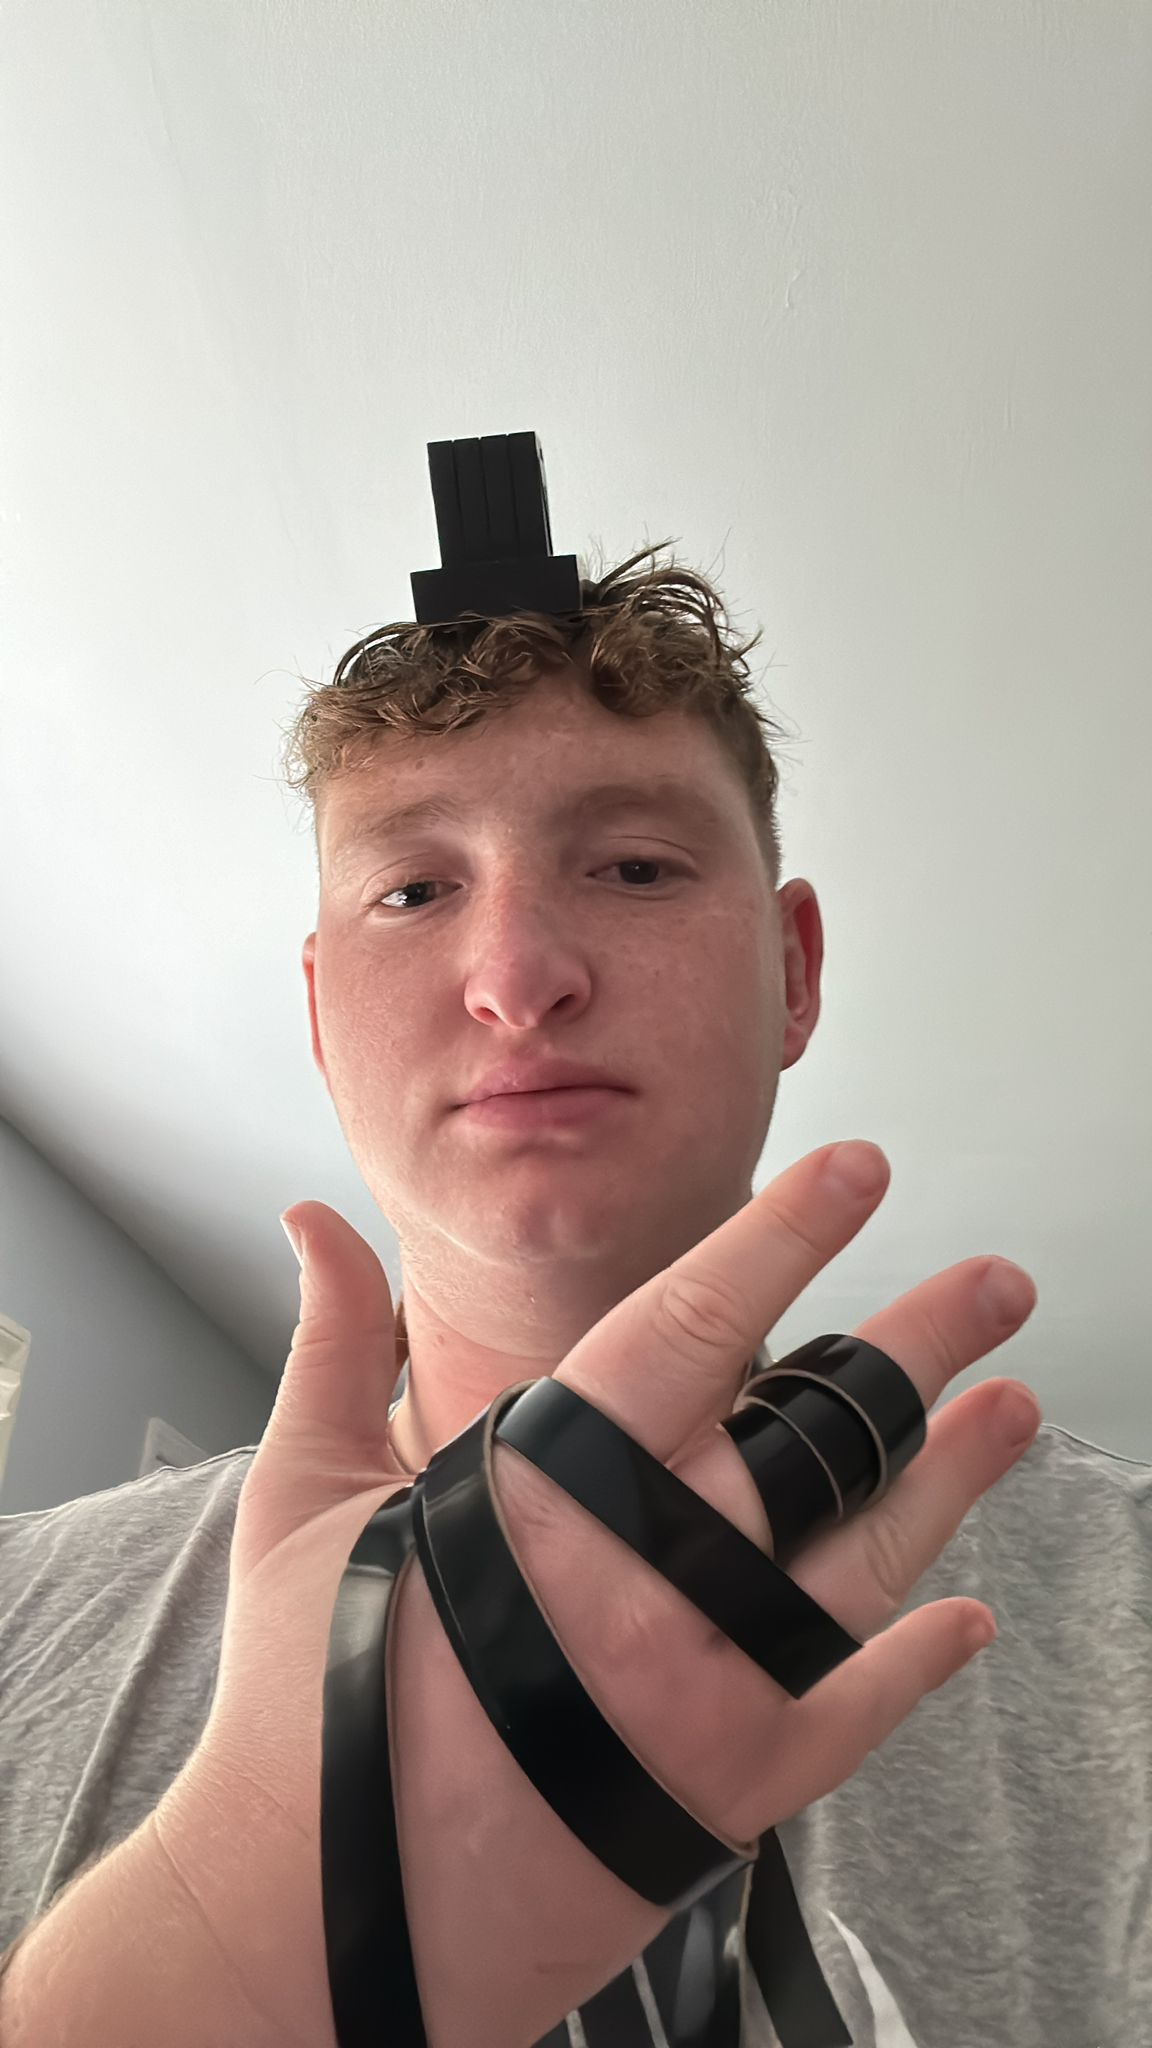tefillin: (405, 435, 599, 626)
